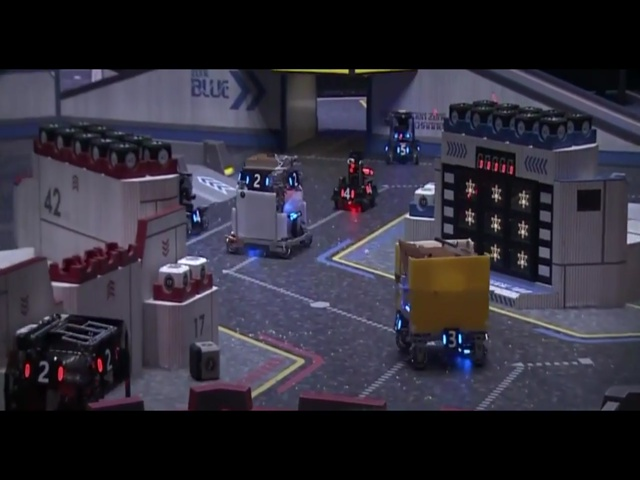plate: (18, 357, 68, 387), (242, 165, 272, 196), (441, 326, 467, 359), (95, 344, 121, 377), (187, 202, 207, 230), (285, 165, 303, 192), (392, 303, 404, 339), (339, 181, 354, 205), (367, 175, 380, 201), (398, 139, 414, 160)
